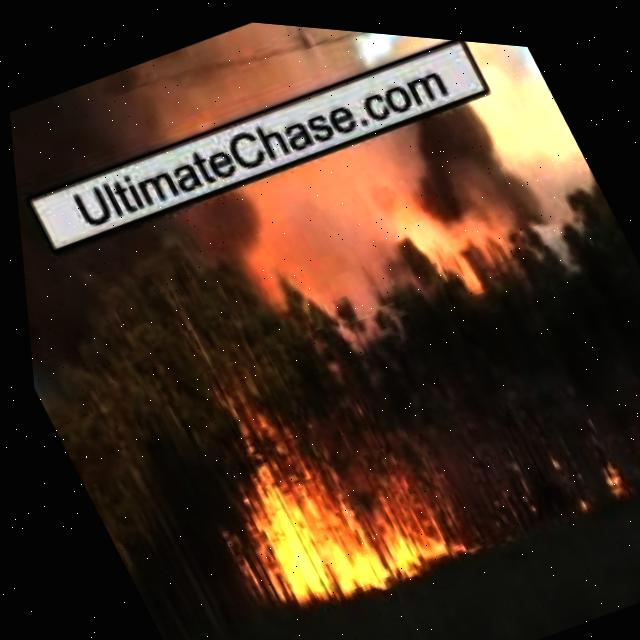Fire: (163, 38, 631, 388), (0, 0, 532, 270), (220, 404, 459, 623), (581, 439, 633, 493)
